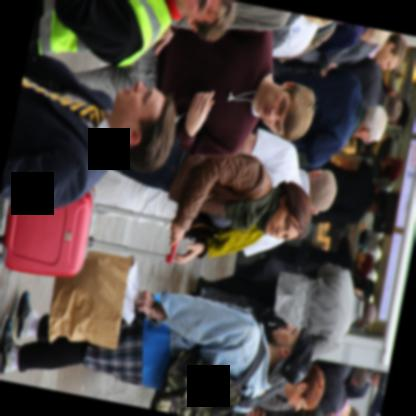backpack: (153, 350, 244, 416)
handbag: (181, 213, 228, 237)
suitcase: (0, 184, 175, 277)
